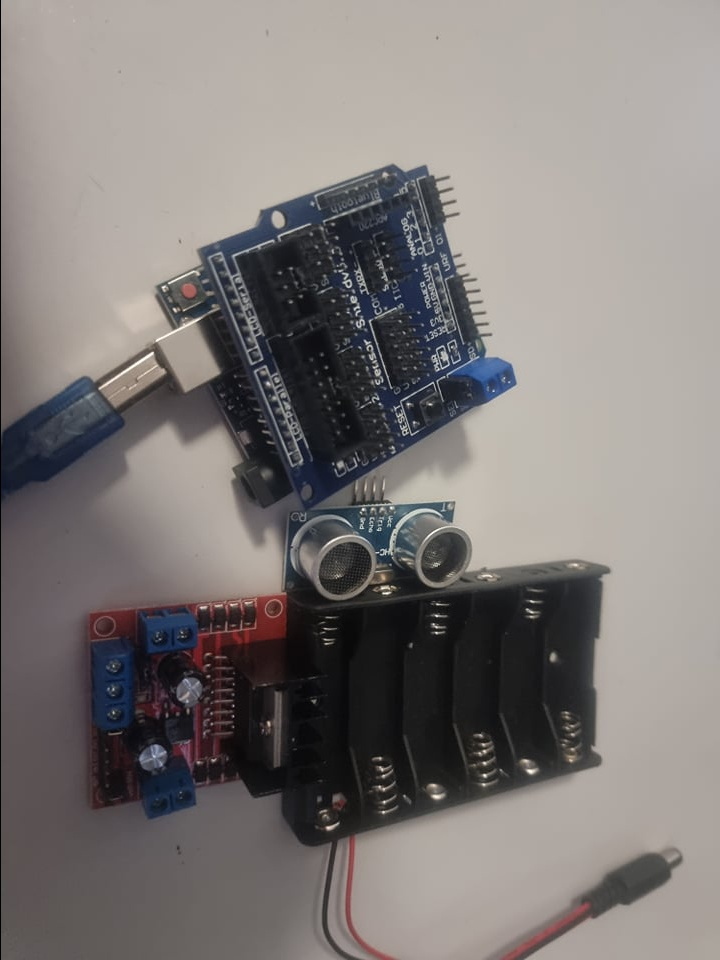5V EXPANSION: (211, 166, 518, 507)
BATTERY BOX: (278, 558, 617, 847)
MOTOR: (84, 604, 328, 826)
SENSOR: (283, 502, 476, 598)
UNO R3: (132, 263, 257, 512)
